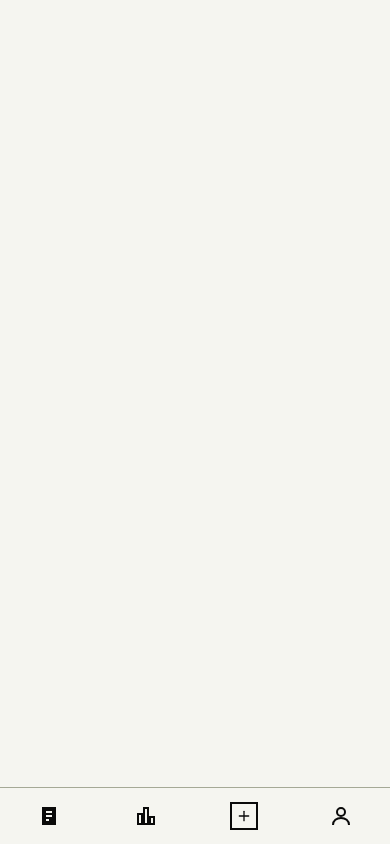
BottomNav › o "+" abre o modal de nova refeição em /
Click the button named "Nova refeição" at (244, 816), box [195,788,292,843]
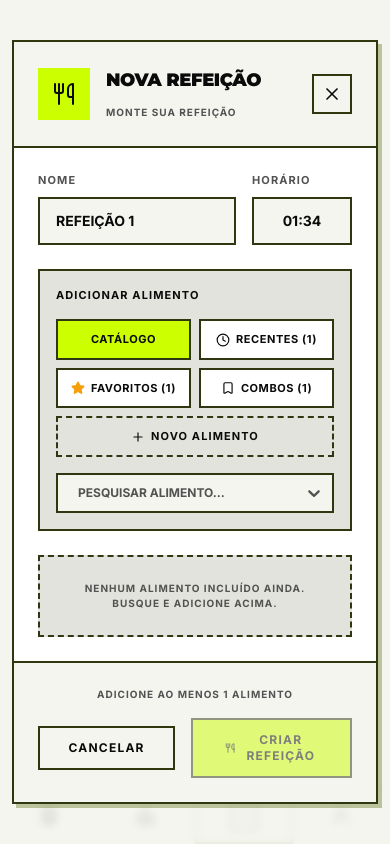
Expected: the dialog is shown
